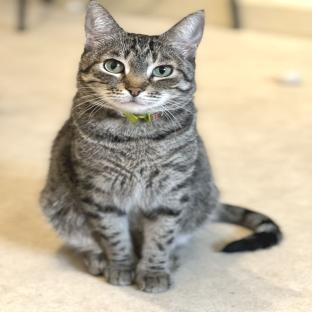Animal: (41, 1, 282, 292)
